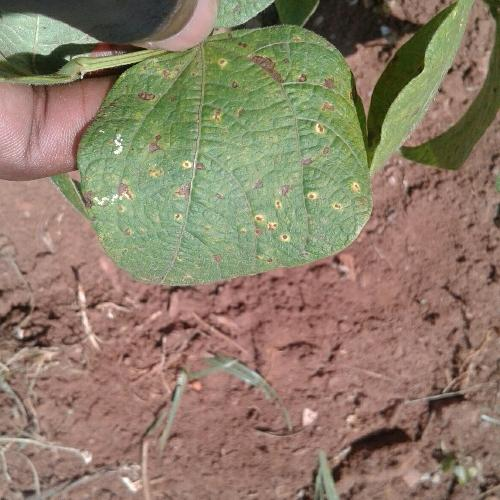hawar: (234, 123, 337, 223), (161, 144, 224, 224), (237, 39, 304, 91), (87, 172, 146, 212), (206, 240, 234, 265)
mozaik: (114, 42, 338, 269)
